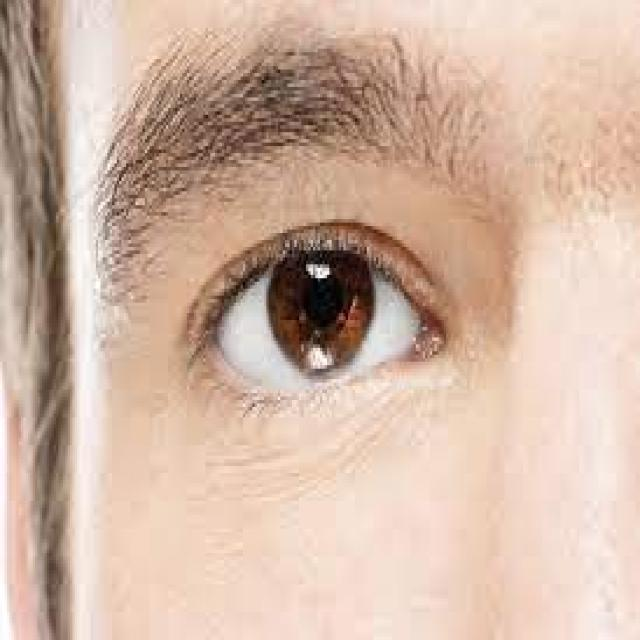Normal: (98, 129, 567, 552)
